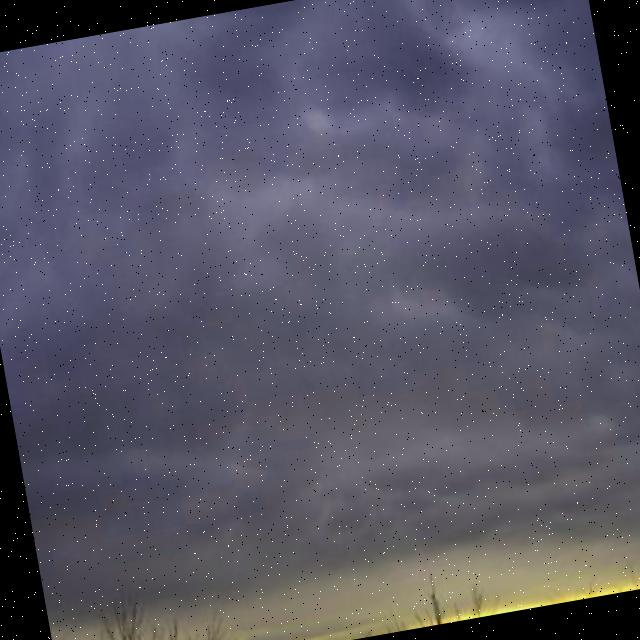Ac: (1, 1, 640, 587)
